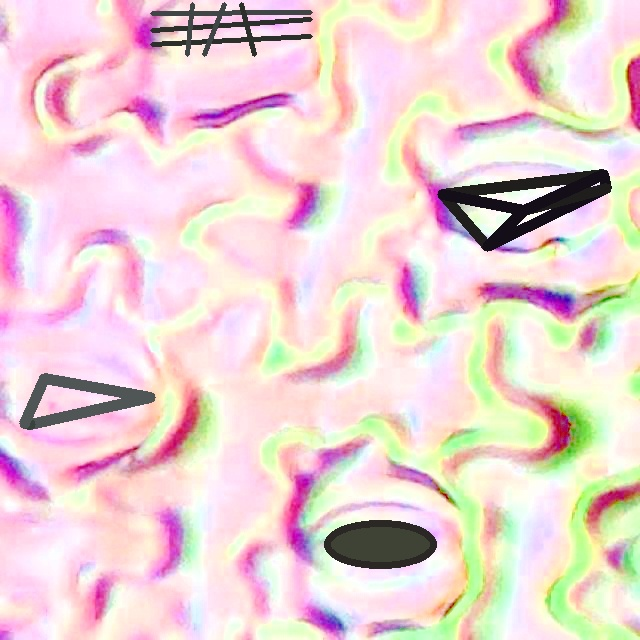close: (437, 169, 610, 251), (150, 2, 312, 56)
open: (20, 373, 155, 429), (324, 520, 436, 568)
